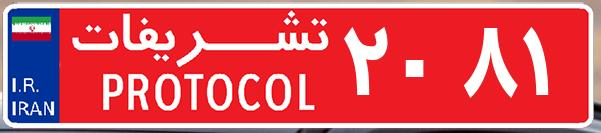0: (400, 20, 460, 115)
1: (520, 20, 580, 115)
2: (340, 20, 400, 115)
8: (460, 20, 520, 115)
تشریفات: (60, 8, 340, 125)
